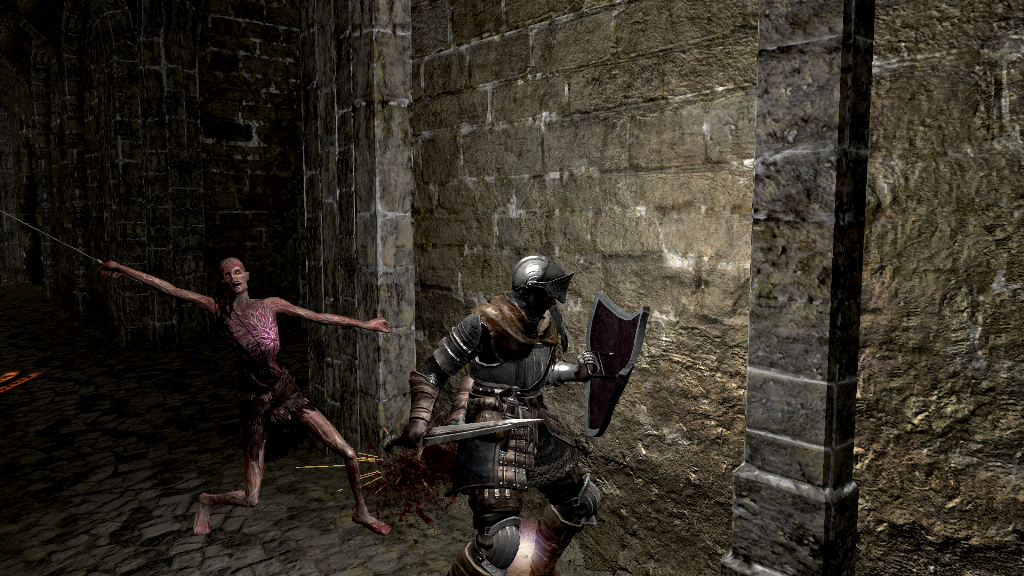hollow: (98, 256, 393, 541)
player: (385, 255, 650, 576)
